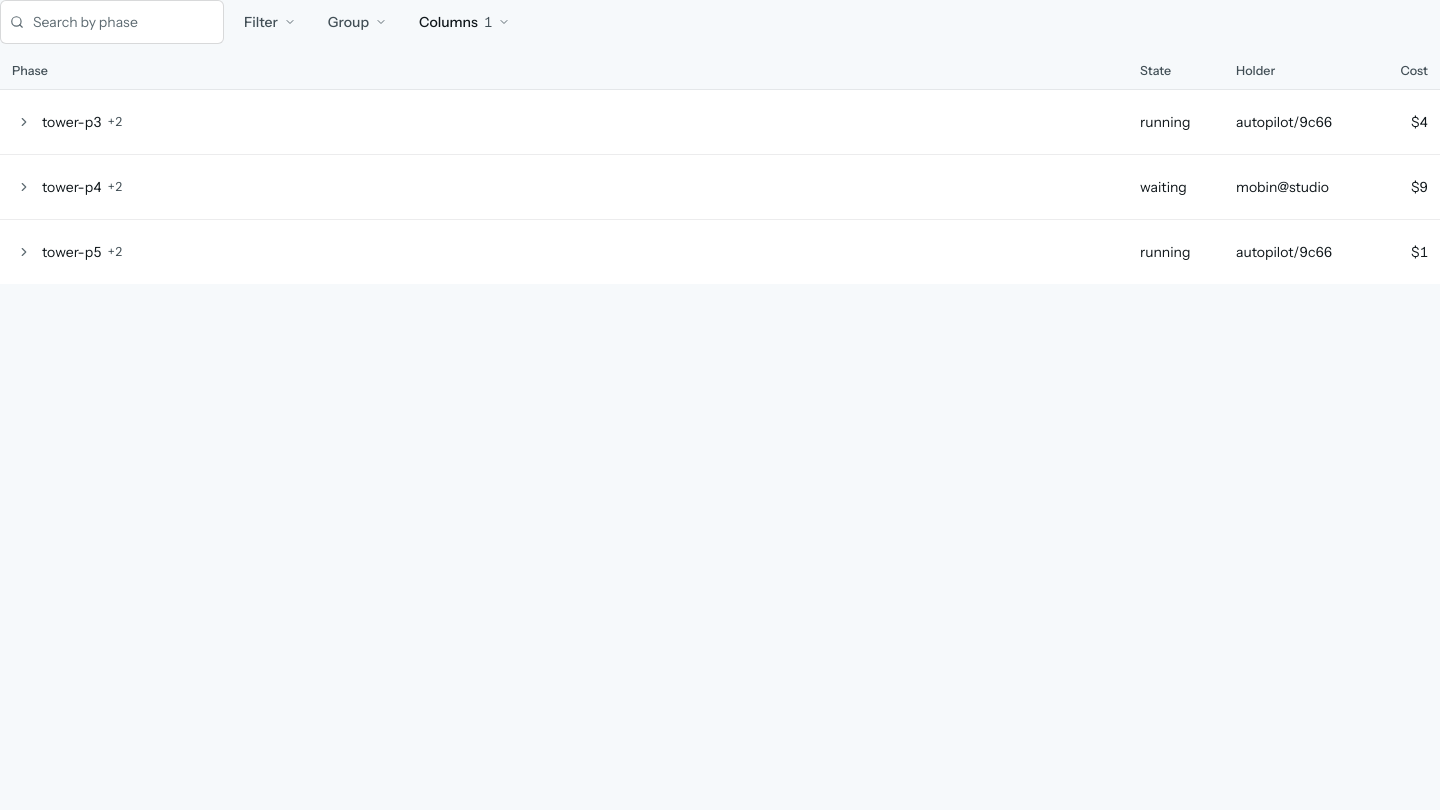
Scenario: a hidden column folds into the row’s detail › is kept by tableId, and the identity is never offered: the row’s toggle lives in it
Click the button "Columns 1".
click(465, 22)  # box [407, 0, 522, 44]
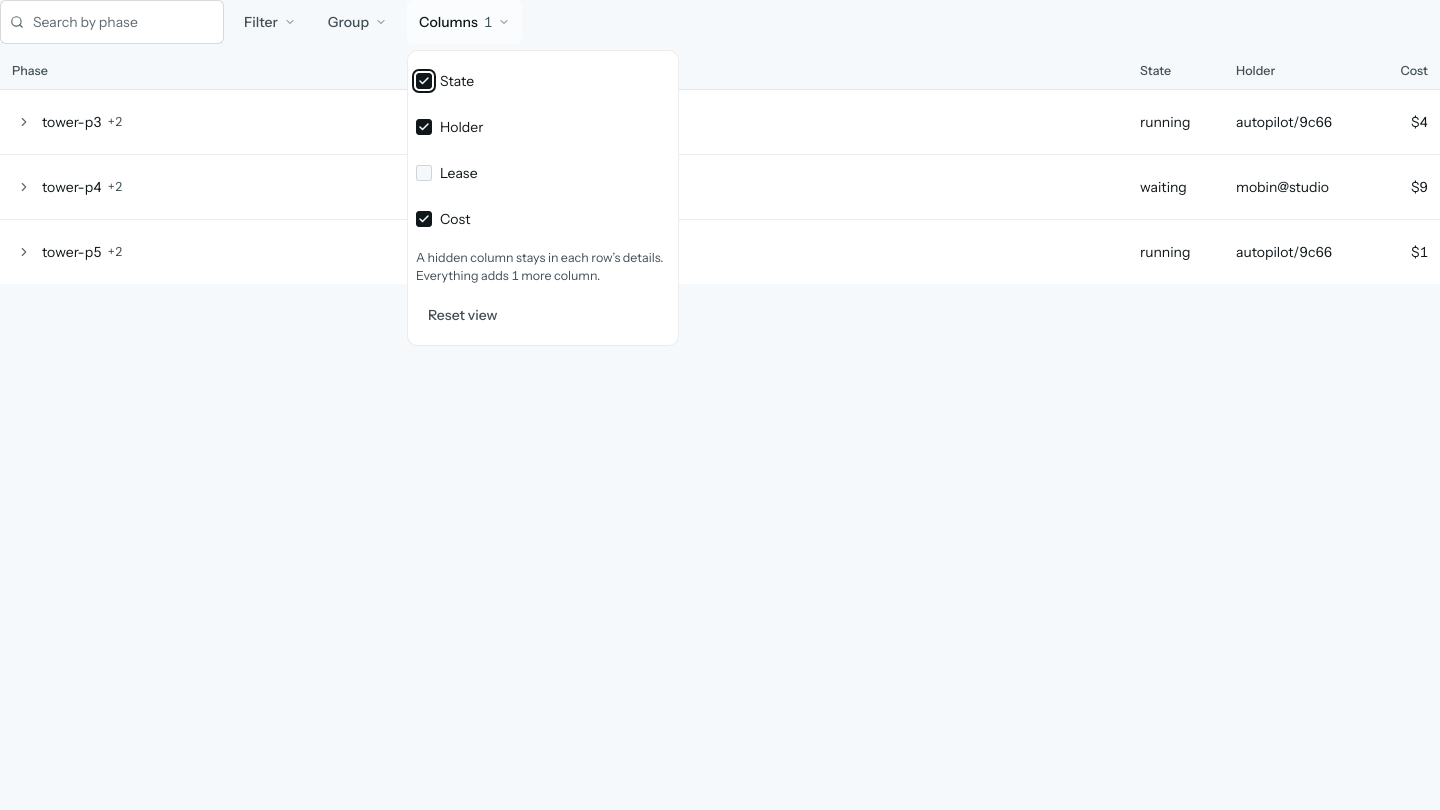
Now the text "Everything adds 1 more column" is shown, box [416, 268, 600, 283]
Press Escape in the dialog named "Columns", box [407, 50, 679, 346]
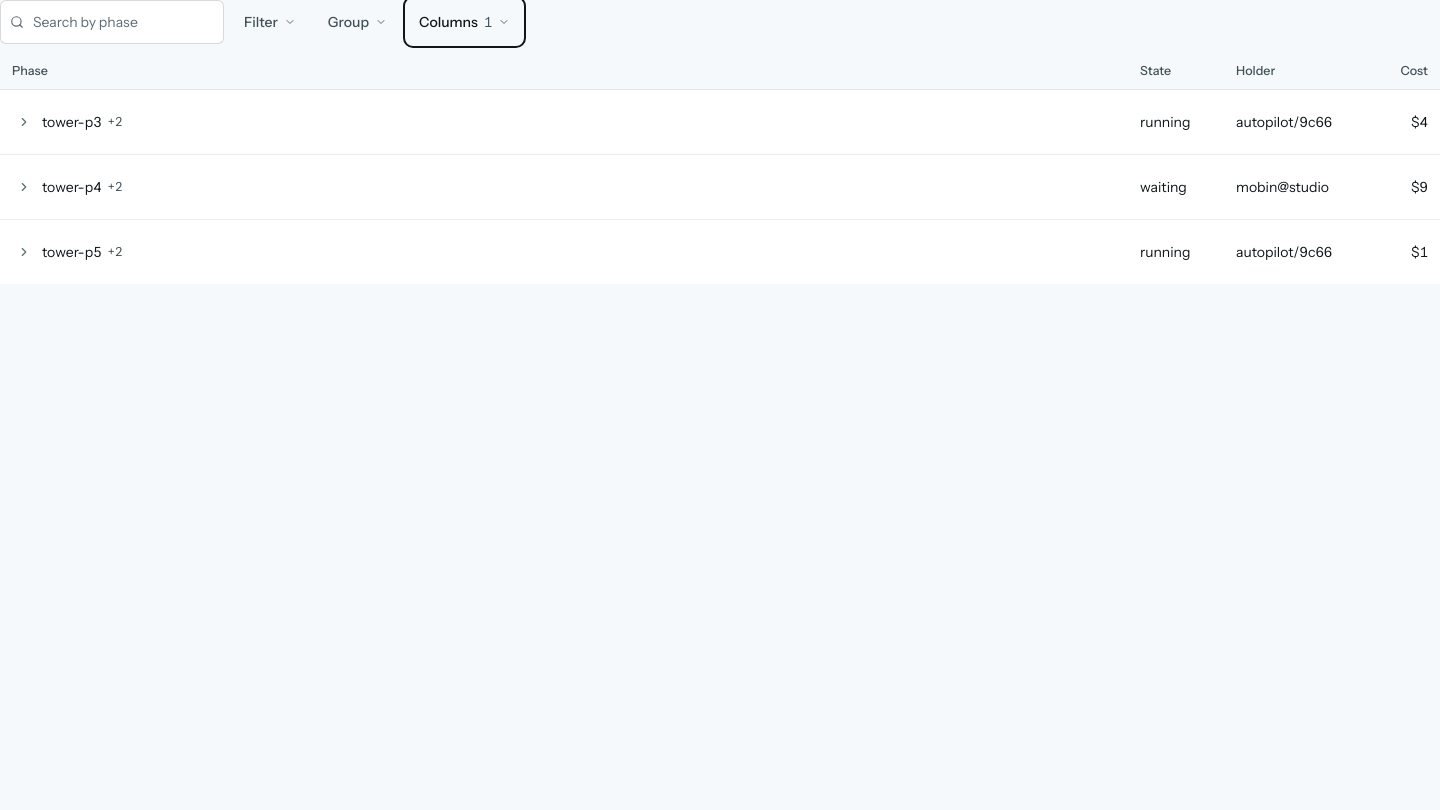
Now the dialog is gone
